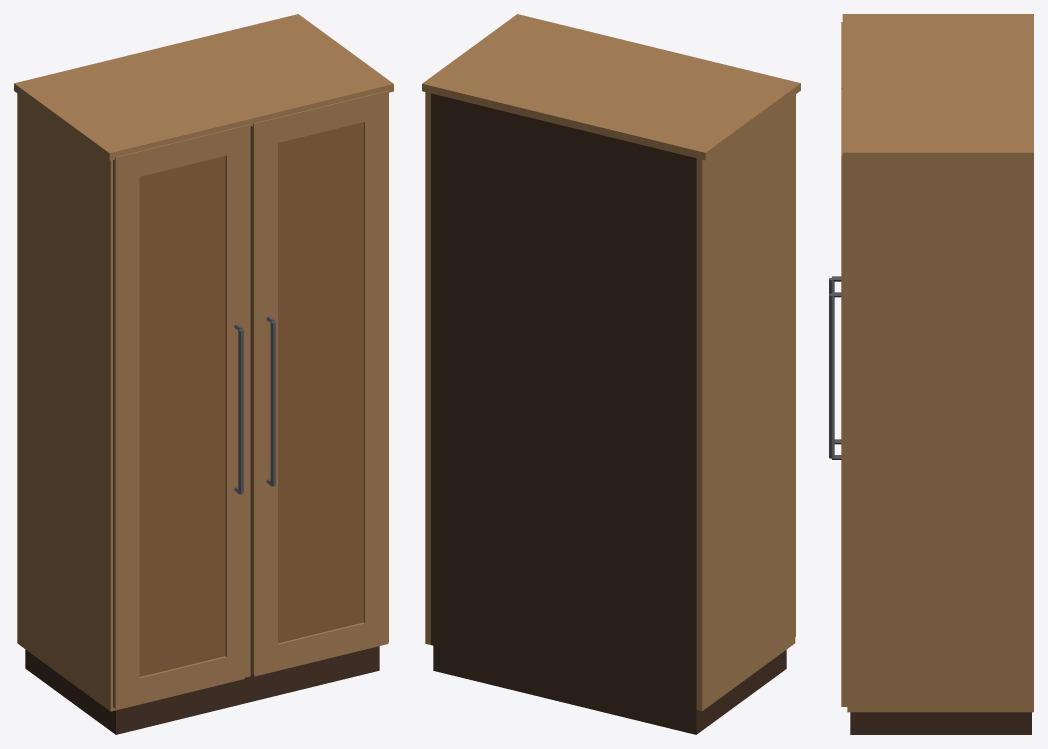
Rendered from FN_Wardrobe_Double.obj.
The picture shows the model from 3 angles, left to right: view 1: azimuth 30°, elevation 25°; view 2: azimuth 150°, elevation 25°; view 3: azimuth 270°, elevation 25°; orthographic projection.
Parts seen in each view (by area): view 1: FN_Wardrobe_Double; view 2: FN_Wardrobe_Double; view 3: FN_Wardrobe_Double.
Part boxes in pixels (bbox=[...]): FN_Wardrobe_Double: bbox=[14, 14, 393, 734]; FN_Wardrobe_Double: bbox=[422, 14, 800, 734]; FN_Wardrobe_Double: bbox=[829, 14, 1033, 734].
Bounding box in the file's own units: 1.02 × 2.02 × 0.6387.
1 material, 1 textured.
